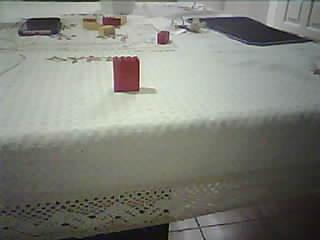lego: (112, 54, 140, 93), (102, 13, 127, 26), (99, 24, 115, 36), (82, 16, 98, 28), (156, 31, 170, 44)
